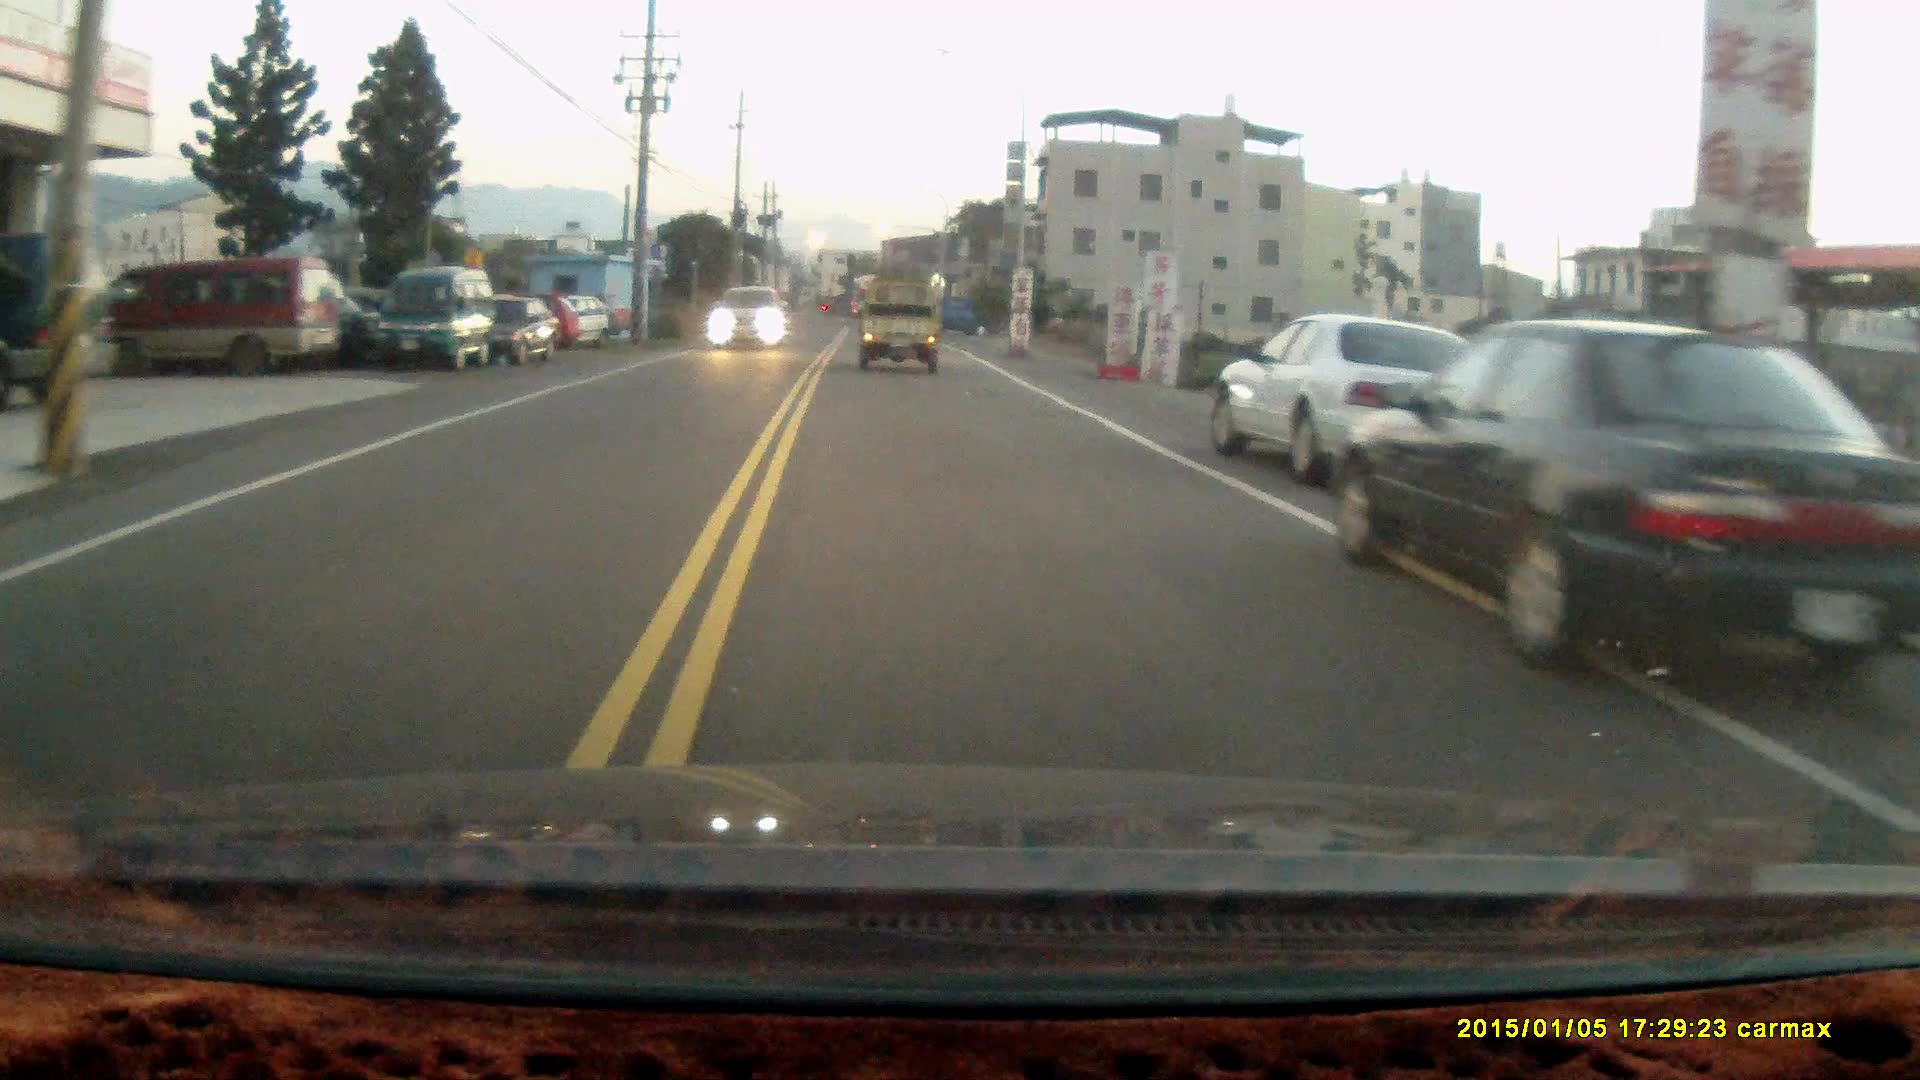vehicle: (1341, 322, 1858, 742), (1209, 316, 1481, 477), (76, 255, 342, 378), (0, 243, 123, 400), (372, 269, 498, 375), (861, 281, 942, 372), (477, 295, 558, 372), (705, 287, 785, 352)
